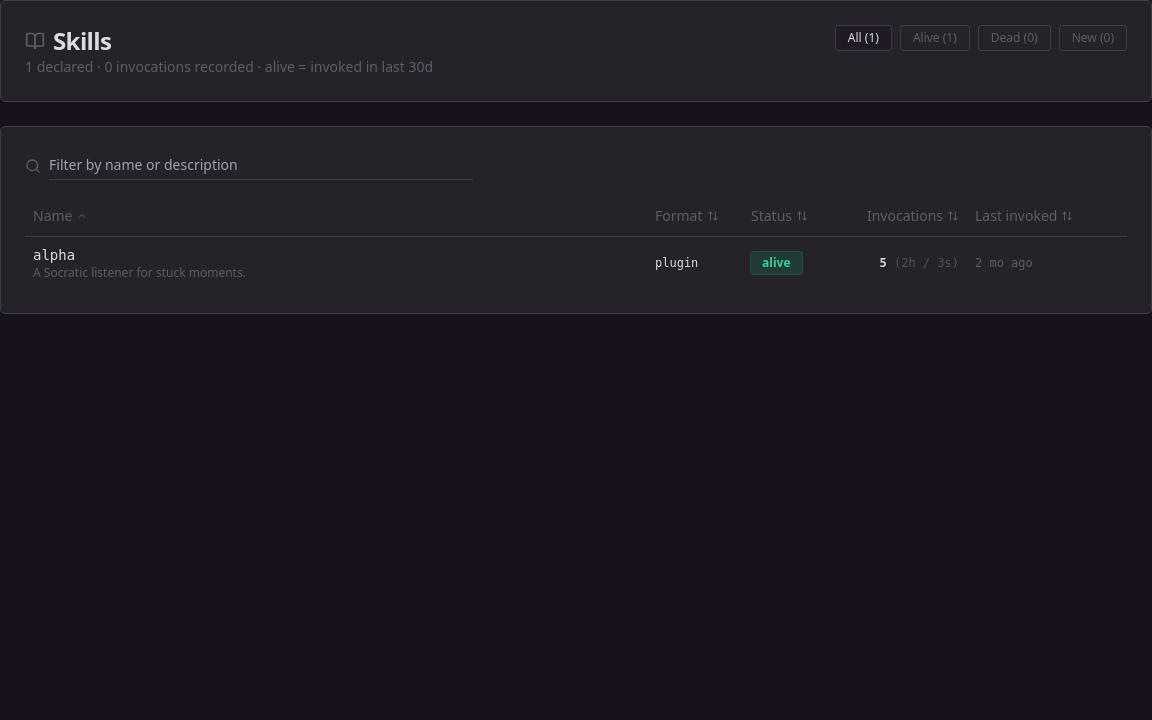
Test: SkillsPage › clicking the same row again collapses the detail
This screenshot has width=1152, height=720.
Click the row with test id "skill-row-alpha".
click(54, 254)  # box 25,236 -> 1127,288
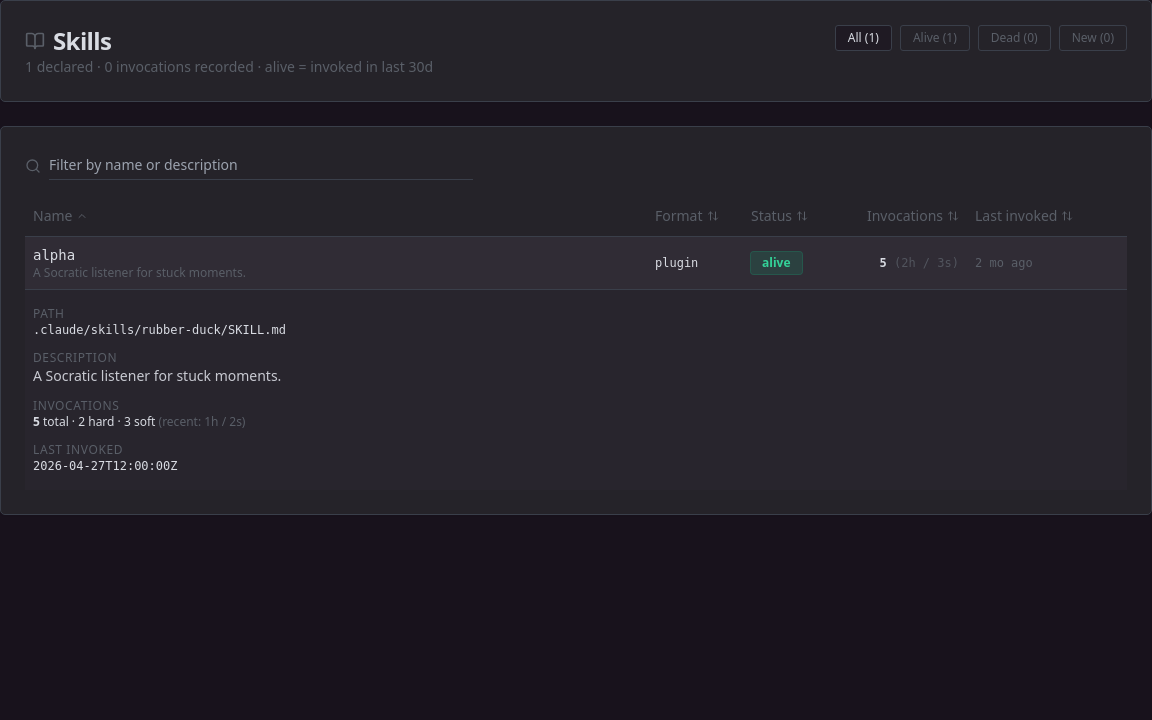
Expected: the row with test id "skill-row-alpha-detail" is shown, 25,289 -> 1127,490
Click the row with test id "skill-row-alpha".
click(576, 262)  # box 25,236 -> 1127,289
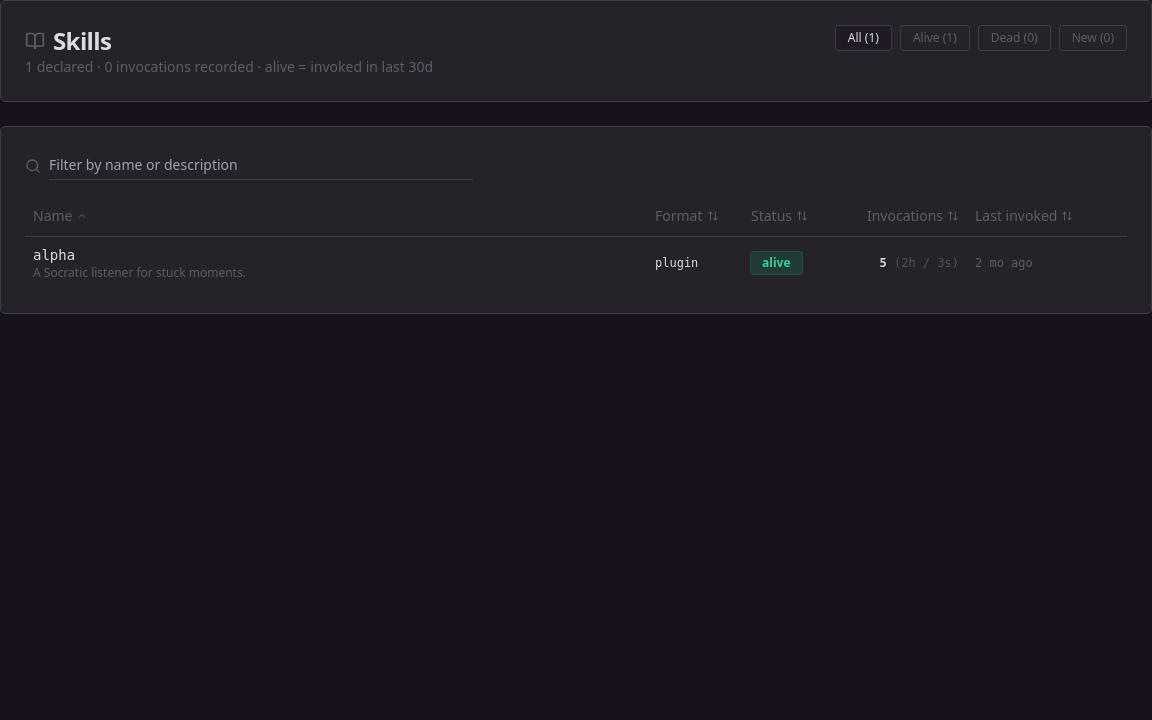
Expected: the row with test id "skill-row-alpha-detail" is gone
